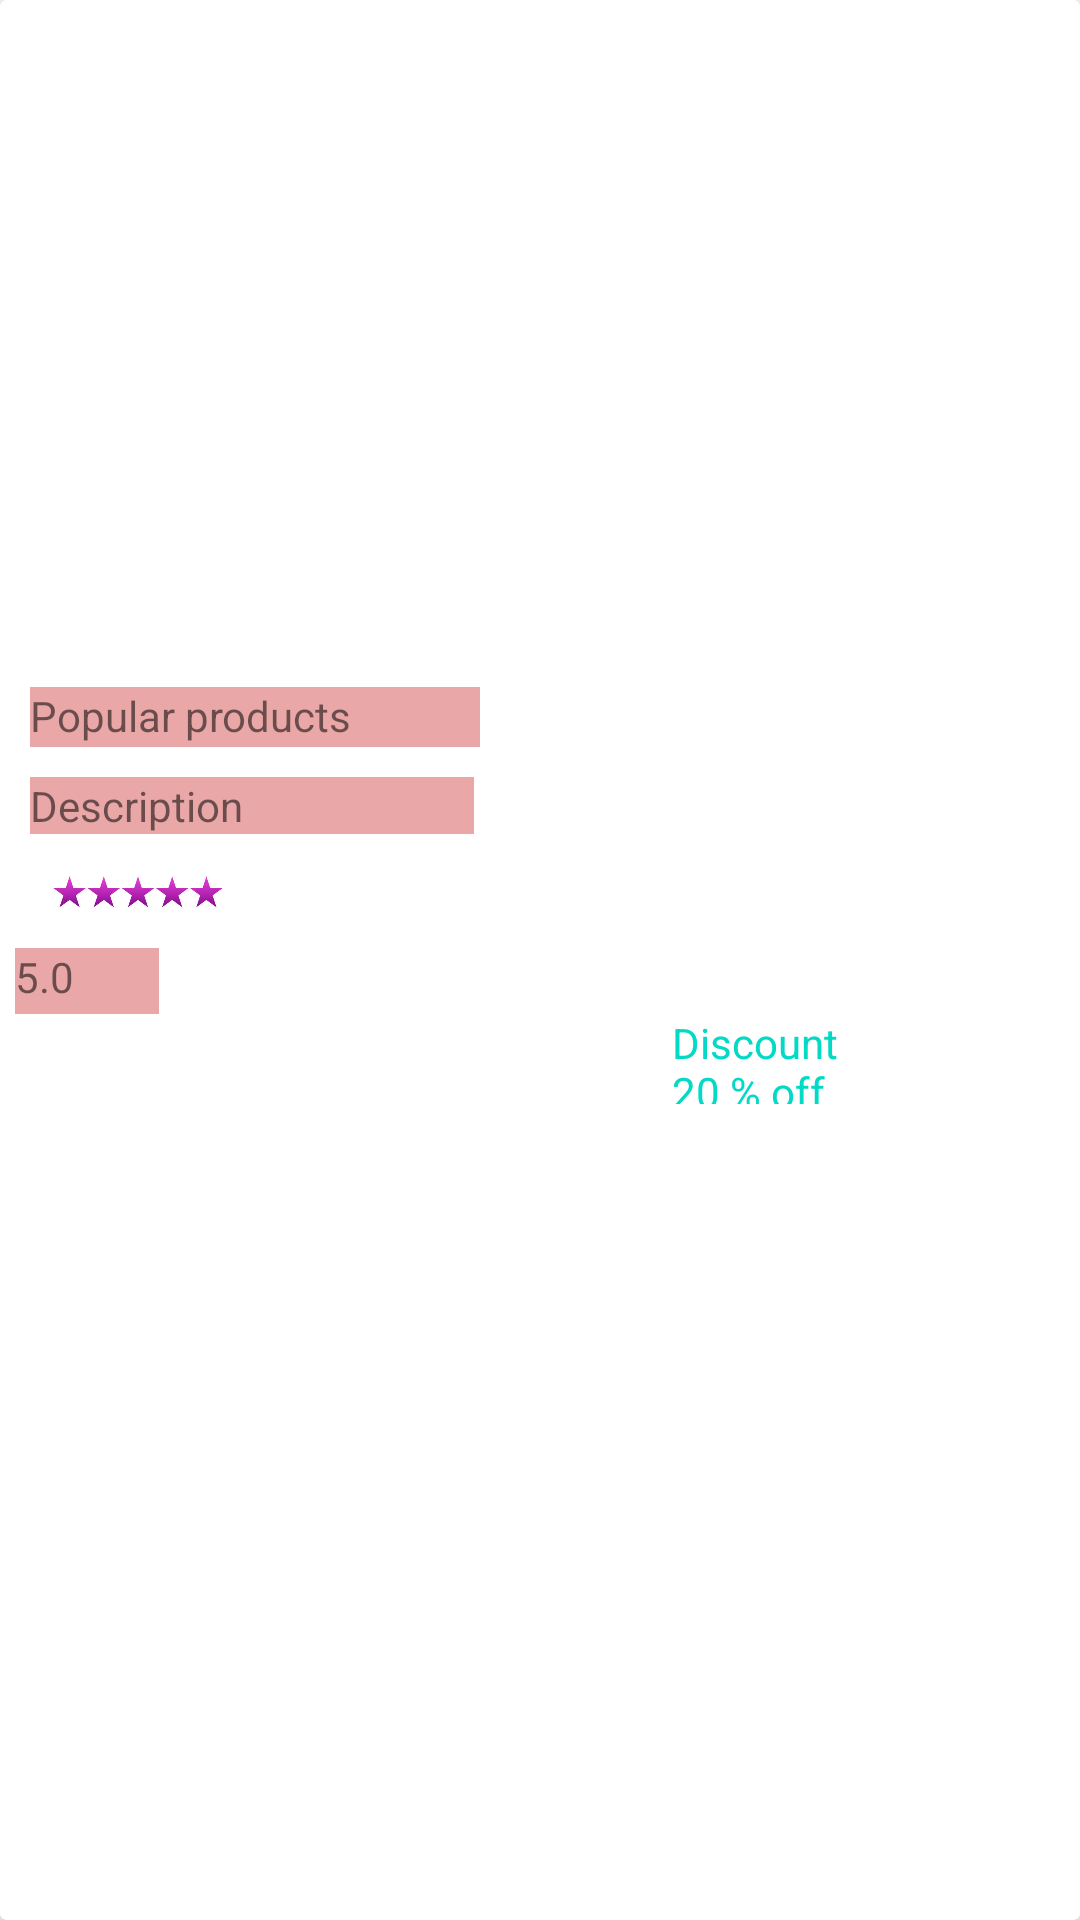

Named icons in this screenshot (1080×1920) and their bounding boxes, (x1, y1, x2, y2):
star: (53, 876, 223, 907)
